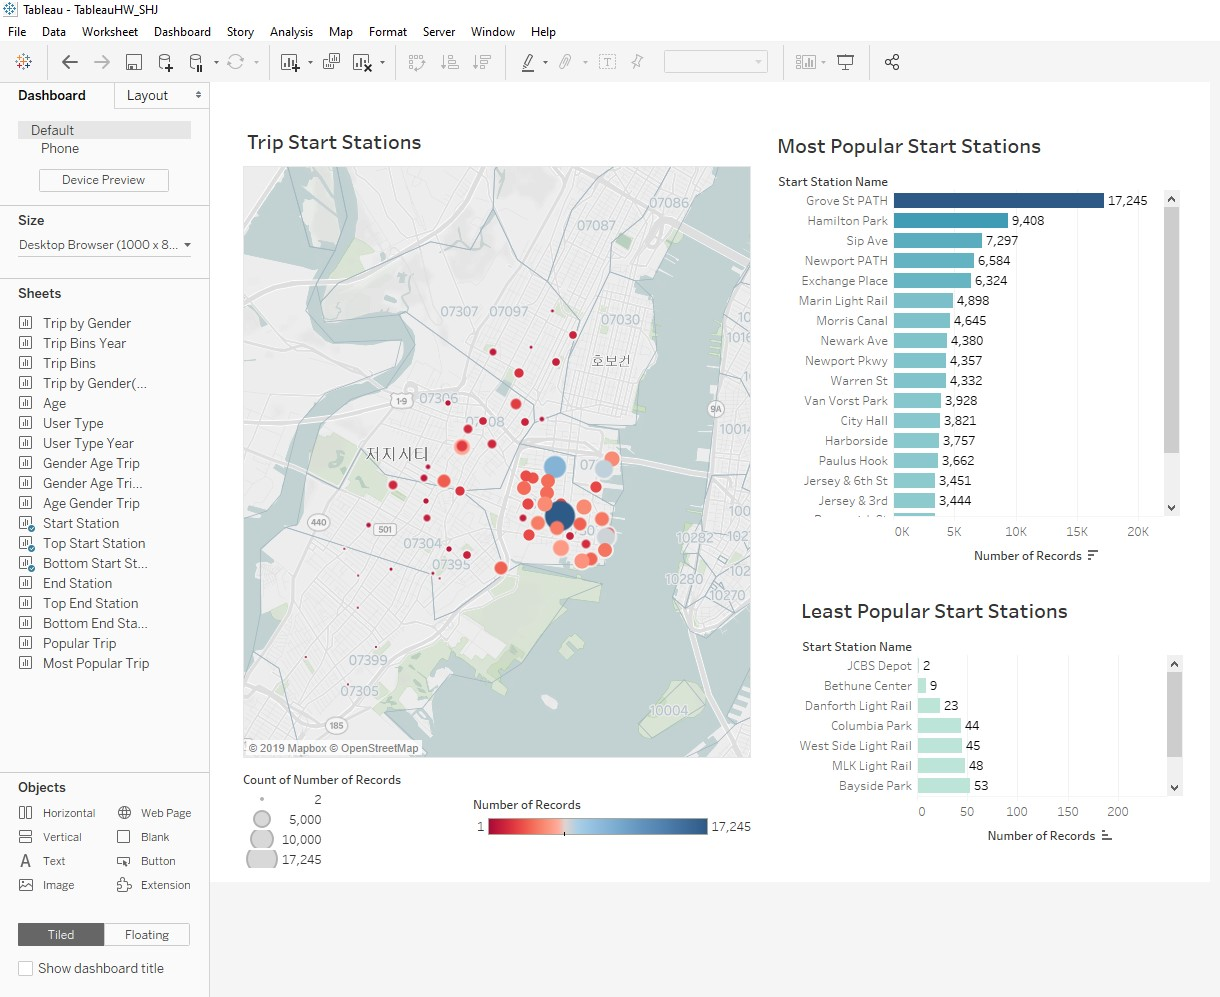

The page's visual inventory and layout, read from the dashboard file:
{"tool":"tableau","page":{"name":"Start Map Dashboard","canvas":[1000,800],"ordinal":3},"visuals":[{"type":"worksheet","title":"Start Station","mark":"Automatic","rows":["Start Station Latitude"],"cols":["Start Station Longitude"],"box":[33,41,508,635]},{"type":"worksheet","title":"Top Start Station","mark":"Bar","rows":["Start Station Name"],"cols":["Number of Records"],"box":[563,45,407,444]},{"type":"worksheet","title":"Bottom Start Station","mark":"Bar","rows":["Start Station Name"],"cols":["Number of Records"],"box":[587,510,386,259]},{"type":"legend","title":"Start Station","param":"[federated.093bcvo16awe271av9blk055fpej].[cnt:Number of Records:qk]","box":[33,689,197,98]},{"type":"legend","title":"Start Station","param":"[federated.093bcvo16awe271av9blk055fpej].[sum:Number of Records:qk]","box":[263,714,283,76]}]}

Visuals, with their boxes on the page's 1000x800 design canvas (x1, y1, x2, y2). These are canvas units, not pixel positions in the 1220x997 screenshot, which may show the page scaled, cropped or inside an application window:
"Start Station" worksheet: box(33, 41, 541, 676)
"Top Start Station" worksheet (Bar marks): box(563, 45, 970, 489)
"Bottom Start Station" worksheet (Bar marks): box(587, 510, 973, 769)
"Start Station" legend: box(33, 689, 230, 787)
"Start Station" legend: box(263, 714, 546, 790)
